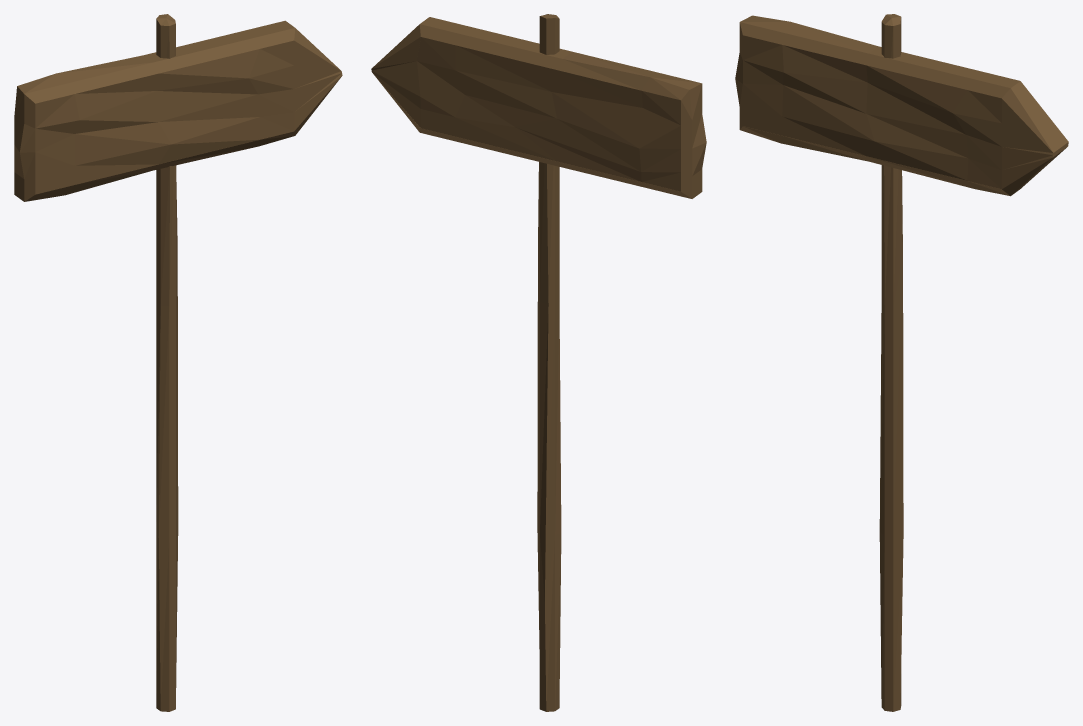
Rendered from Holzschild richtung.fbx.
3 renders of one model, left to right at view 1: azimuth 30°, elevation 25°; view 2: azimuth 150°, elevation 25°; view 3: azimuth 330°, elevation 25°, orthographic.
Visible parts, largest first — view 1: Würfel, Stiel; view 2: Würfel, Stiel; view 3: Würfel, Stiel.
Boxes of the visible parts, bbox=[...] form: Würfel: bbox=[14, 20, 342, 201]; Stiel: bbox=[156, 14, 178, 711]; Würfel: bbox=[371, 17, 706, 198]; Stiel: bbox=[537, 14, 561, 711]; Würfel: bbox=[735, 15, 1068, 196]; Stiel: bbox=[879, 14, 903, 711].
Size of the model in its own units: 281 by 578 by 32.64.
